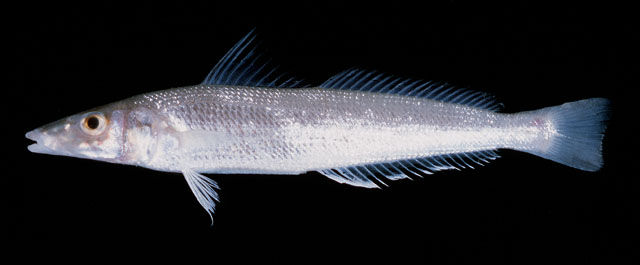fish: (26, 31, 610, 227)
